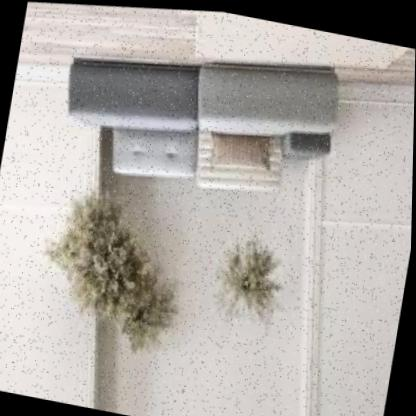Sofa: (25, 1, 388, 256)
